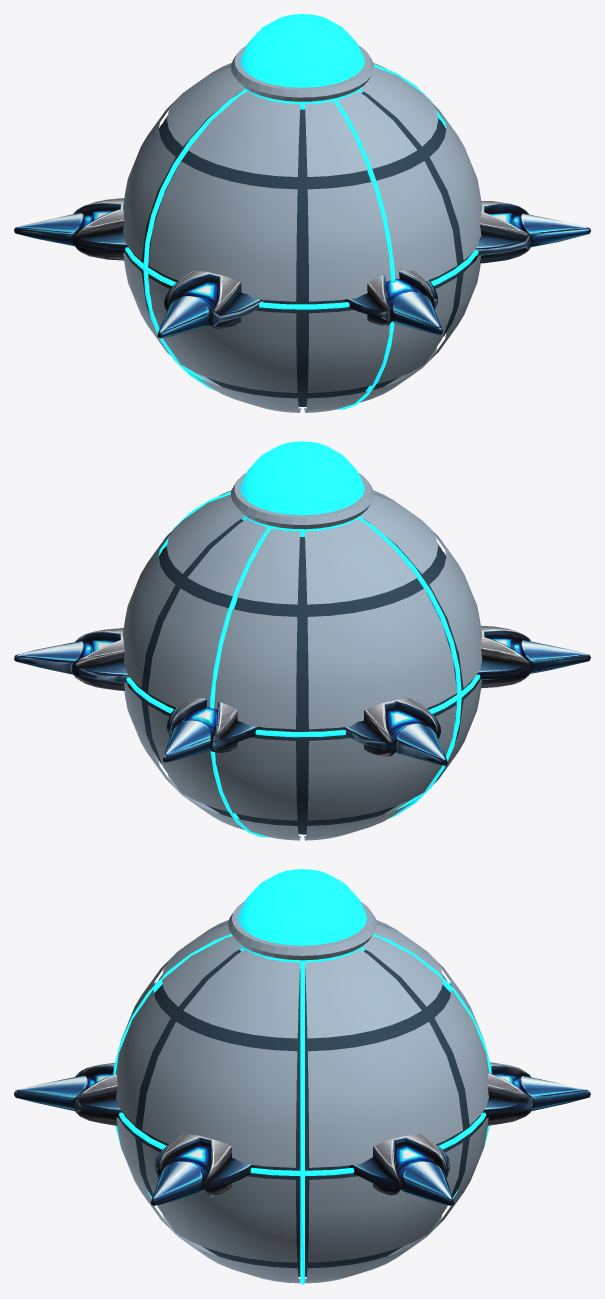
File: drone_pirate.glb
3 renders of one model, top to bottom at view 1: azimuth 30°, elevation 25°; view 2: azimuth 150°, elevation 25°; view 3: azimuth 270°, elevation 25°, orthographic. The views are drawn at different scales.
Visible parts, largest first — view 1: Orb_spherical_armor_plates, Meshy_six_textured_branches, Orb_spherical_body, Orb_blue_reactor_lens, Orb_reactor_metal_rim, Orb_cyan_meridian_1, Orb_cyan_meridian_2, Orb_cyan_meridian_0; view 2: Orb_spherical_armor_plates, Meshy_six_textured_branches, Orb_spherical_body, Orb_blue_reactor_lens, Orb_reactor_metal_rim, Orb_cyan_meridian_1, Orb_cyan_meridian_2, Orb_cyan_meridian_0; view 3: Orb_spherical_armor_plates, Meshy_six_textured_branches, Orb_spherical_body, Orb_blue_reactor_lens, Orb_reactor_metal_rim, Orb_cyan_meridian_1, Orb_cyan_meridian_2, Orb_cyan_meridian_0.
Boxes of the visible parts, box(x1,y1,x2,y2) form: Orb_spherical_armor_plates: box(123, 63, 482, 412); Meshy_six_textured_branches: box(14, 198, 590, 338); Orb_spherical_body: box(129, 91, 473, 406); Orb_blue_reactor_lens: box(240, 14, 365, 109); Orb_reactor_metal_rim: box(231, 45, 374, 101); Orb_cyan_meridian_1: box(143, 64, 446, 390); Orb_cyan_meridian_2: box(333, 99, 395, 409); Orb_cyan_meridian_0: box(125, 247, 478, 309); Orb_spherical_armor_plates: box(122, 490, 482, 840); Meshy_six_textured_branches: box(14, 625, 590, 765); Orb_spherical_body: box(131, 519, 475, 834); Orb_blue_reactor_lens: box(239, 441, 365, 536); Orb_reactor_metal_rim: box(230, 473, 373, 529); Orb_cyan_meridian_1: box(158, 491, 461, 818); Orb_cyan_meridian_2: box(210, 526, 271, 837); Orb_cyan_meridian_0: box(126, 674, 480, 737); Orb_spherical_armor_plates: box(115, 920, 489, 1283); Meshy_six_textured_branches: box(14, 982, 590, 1205); Orb_spherical_body: box(124, 949, 481, 1276); Orb_blue_reactor_lens: box(237, 869, 367, 967); Orb_reactor_metal_rim: box(228, 901, 376, 960); Orb_cyan_meridian_1: box(300, 961, 304, 1284); Orb_cyan_meridian_2: box(113, 934, 491, 1198); Orb_cyan_meridian_0: box(119, 1112, 486, 1176).
Bounding box in the file's own units: 1.71 × 1.43 × 1.9.
Materials: 4 (1 with a texture image).
